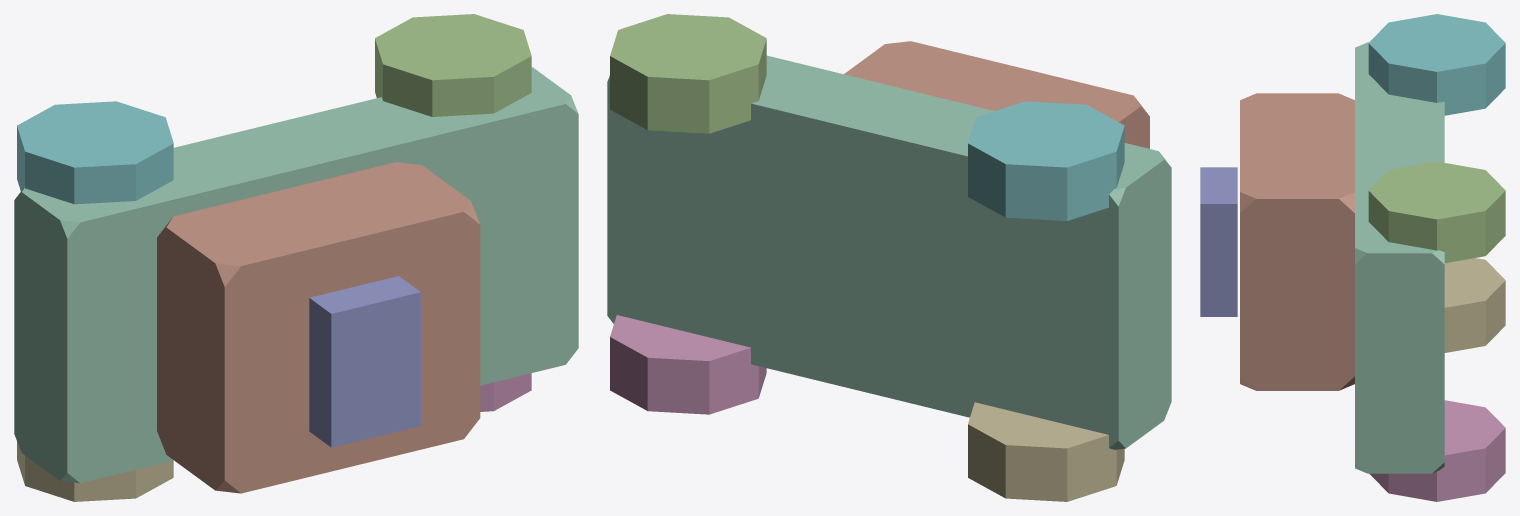
3 views of the same model, side by side, from view 1: azimuth 30°, elevation 25°; view 2: azimuth 150°, elevation 25°; view 3: azimuth 270°, elevation 25° (orthographic). The views are drawn at different scales.
Visible parts, largest first — view 1: part0, part1, part2, part5, part3, part6, part4; view 2: part0, part5, part3, part6, part4, part1; view 3: part1, part0, part3, part5, part4, part2, part6.
Part boxes in pixels (left/top/right/bottom): part0: left=14, top=67, right=578, bottom=483; part1: left=157, top=162, right=480, bottom=493; part2: left=309, top=276, right=420, bottom=447; part5: left=17, top=101, right=173, bottom=204; part3: left=375, top=14, right=531, bottom=116; part6: left=17, top=441, right=173, bottom=501; part4: left=480, top=373, right=531, bottom=411; part0: left=607, top=55, right=1171, bottom=449; part5: left=968, top=101, right=1124, bottom=220; part3: left=610, top=14, right=766, bottom=133; part6: left=968, top=402, right=1124, bottom=501; part4: left=610, top=315, right=766, bottom=414; part1: left=844, top=41, right=1149, bottom=148; part1: left=1240, top=93, right=1354, bottom=390; part0: left=1355, top=42, right=1444, bottom=473; part3: left=1368, top=161, right=1505, bottom=263; part5: left=1368, top=14, right=1505, bottom=115; part4: left=1369, top=400, right=1505, bottom=501; part2: left=1200, top=167, right=1237, bottom=316; part6: left=1444, top=258, right=1505, bottom=352.
Bounding box in the file's own units: 4 × 2.5 × 2.45.
